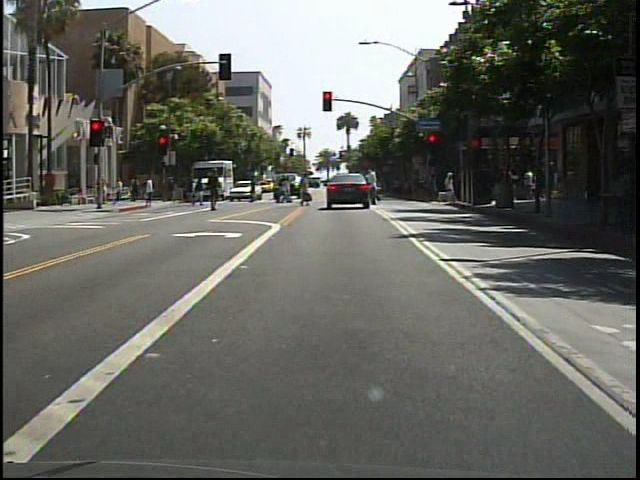person: (360, 163, 387, 210), (208, 169, 229, 216), (299, 173, 318, 212), (144, 175, 161, 211), (194, 175, 209, 211)
